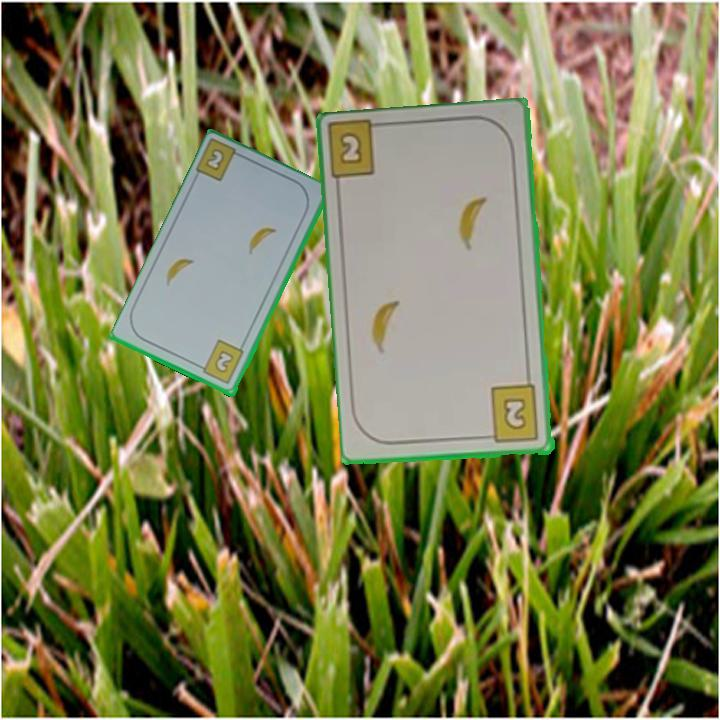2b: (481, 382, 542, 446), (193, 137, 248, 185), (195, 337, 247, 387), (336, 128, 366, 168)
